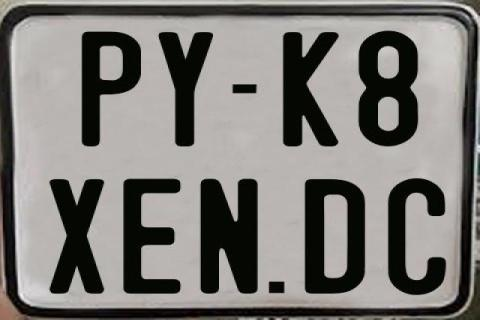0: (357, 30, 417, 150)
C: (386, 177, 445, 297)
D: (303, 178, 369, 292)
E: (122, 177, 184, 296)
K: (281, 31, 341, 149)
N: (198, 178, 260, 294)
P: (81, 31, 146, 151)
X: (48, 179, 103, 297)
Y: (158, 32, 216, 148)
